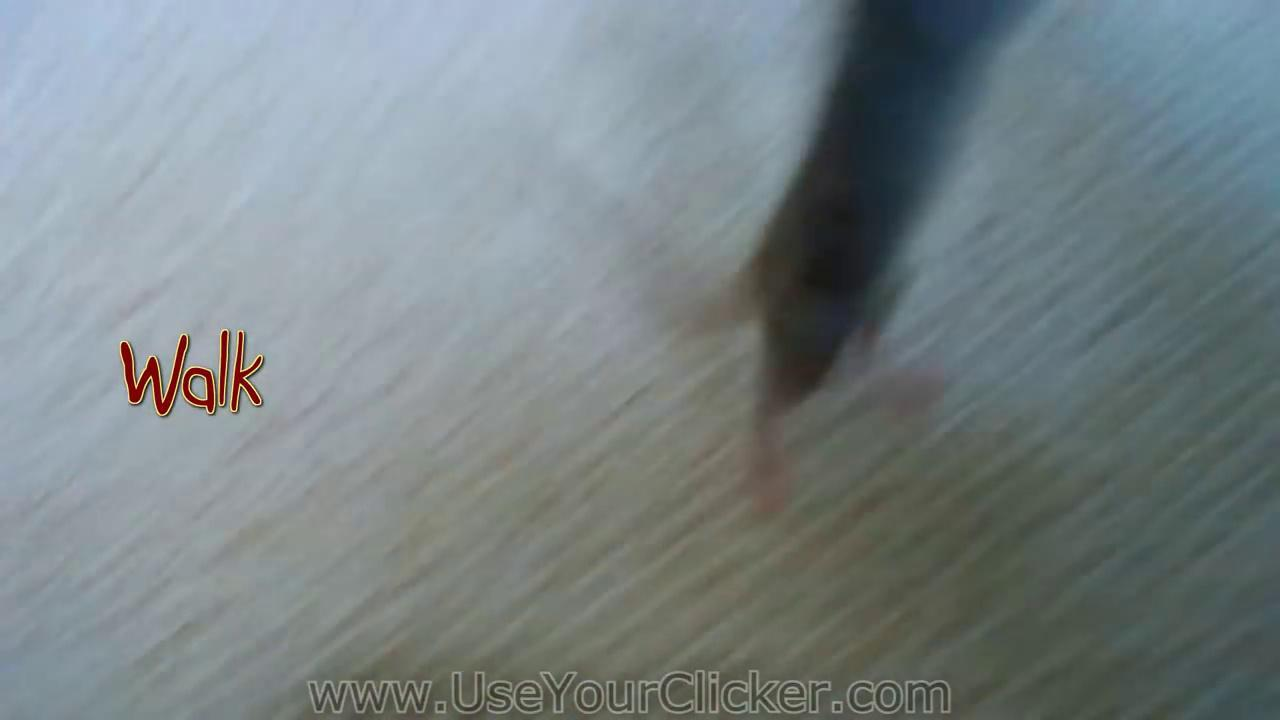rat: (723, 0, 1048, 513)
